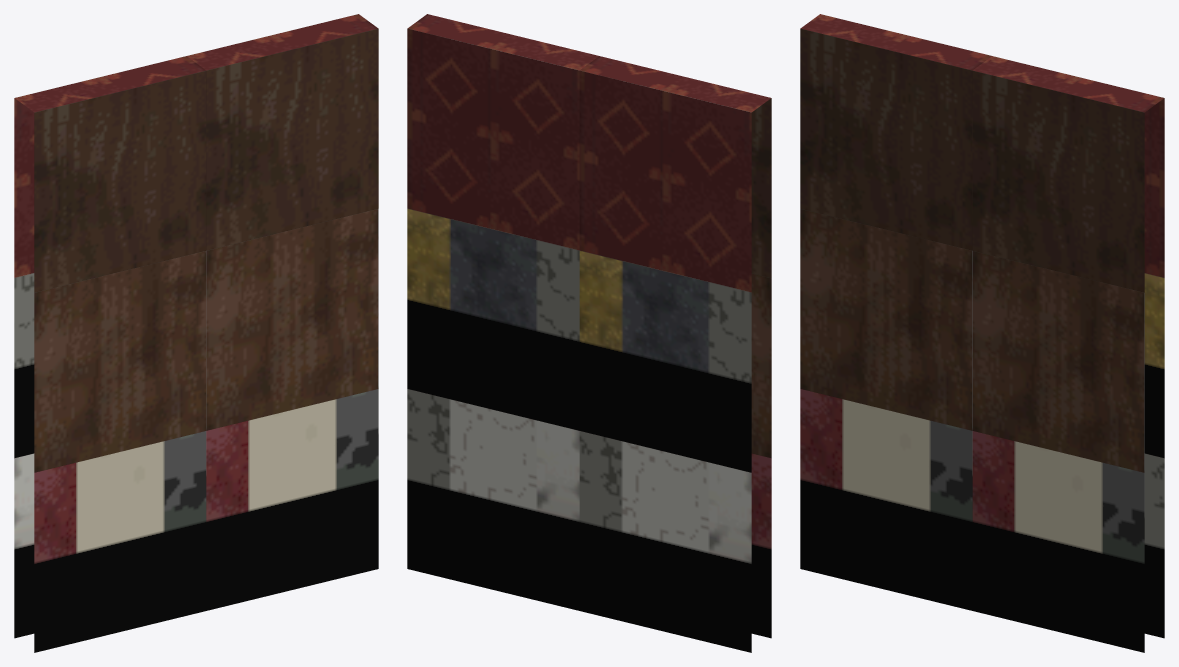
File: SM_wall_tiled_striped.fbx
3 renders of one model, left to right at view 1: azimuth 30°, elevation 25°; view 2: azimuth 150°, elevation 25°; view 3: azimuth 330°, elevation 25°, orthographic.
Parts seen in each view (by area): view 1: wall_tiled_striped; view 2: wall_tiled_striped; view 3: wall_tiled_striped.
Part boxes in pixels (x1,y1,x2,y2): wall_tiled_striped: [14, 14, 378, 652]; wall_tiled_striped: [407, 14, 771, 652]; wall_tiled_striped: [800, 14, 1164, 652].
Size of the model in its own units: 2 by 3 by 0.2.
